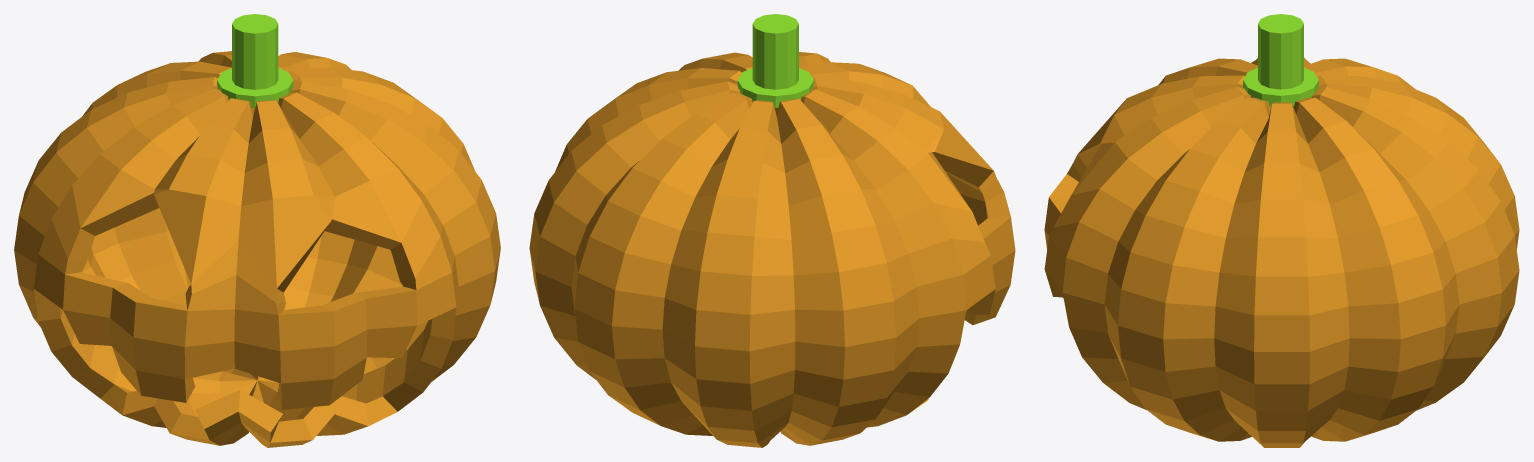
File: PumpkinHead.fbx
3 views of the same model, side by side, from view 1: azimuth 30°, elevation 25°; view 2: azimuth 150°, elevation 25°; view 3: azimuth 270°, elevation 25° (orthographic).
Parts seen in each view (by area): view 1: Sphere, Cylinder; view 2: Sphere, Cylinder; view 3: Sphere, Cylinder.
Boxes of the visible parts, x1=… form: Sphere: x1=14, y1=51, x2=500, y2=447; Cylinder: x1=217, y1=14, x2=293, y2=108; Sphere: x1=529, y1=52, x2=1015, y2=447; Cylinder: x1=737, y1=14, x2=813, y2=107; Sphere: x1=1044, y1=57, x2=1519, y2=447; Cylinder: x1=1243, y1=14, x2=1318, y2=106.
Size of the model in its own units: 208 by 186 by 206.
